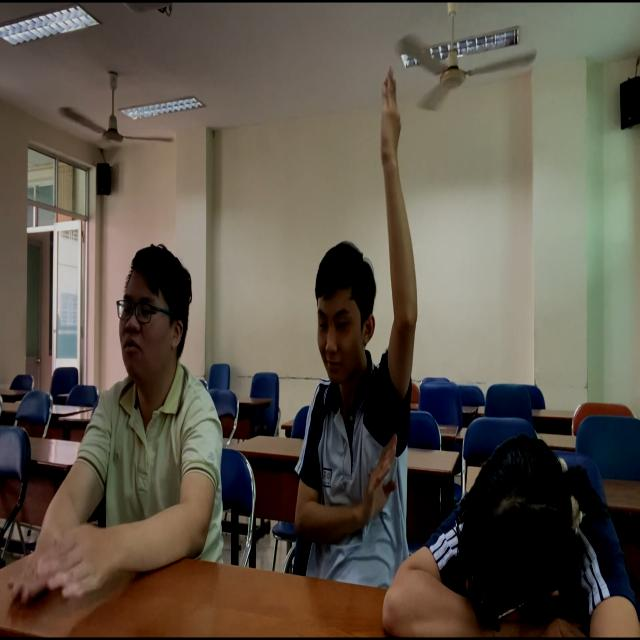raise_hand: (301, 65, 420, 594)
sleep: (390, 431, 638, 640)
